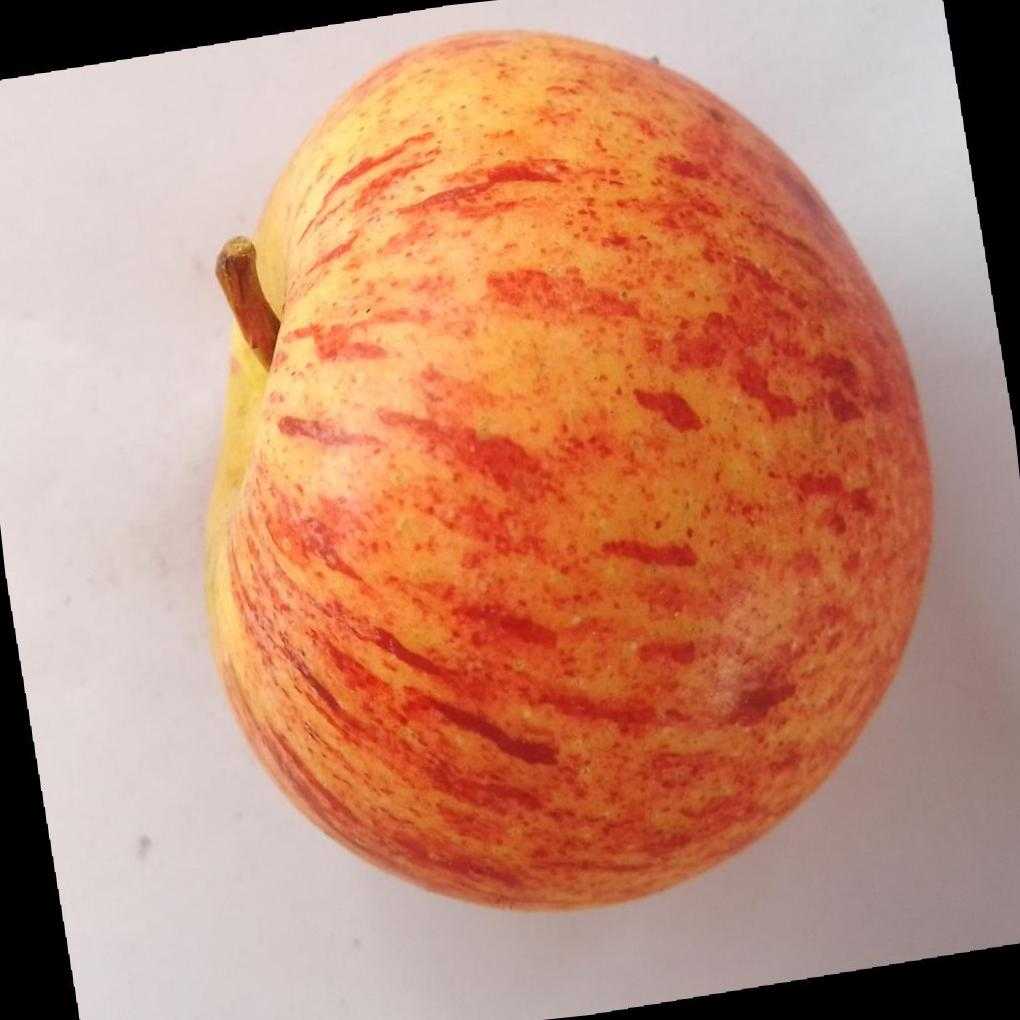FreshGuava: (199, 27, 936, 911)
